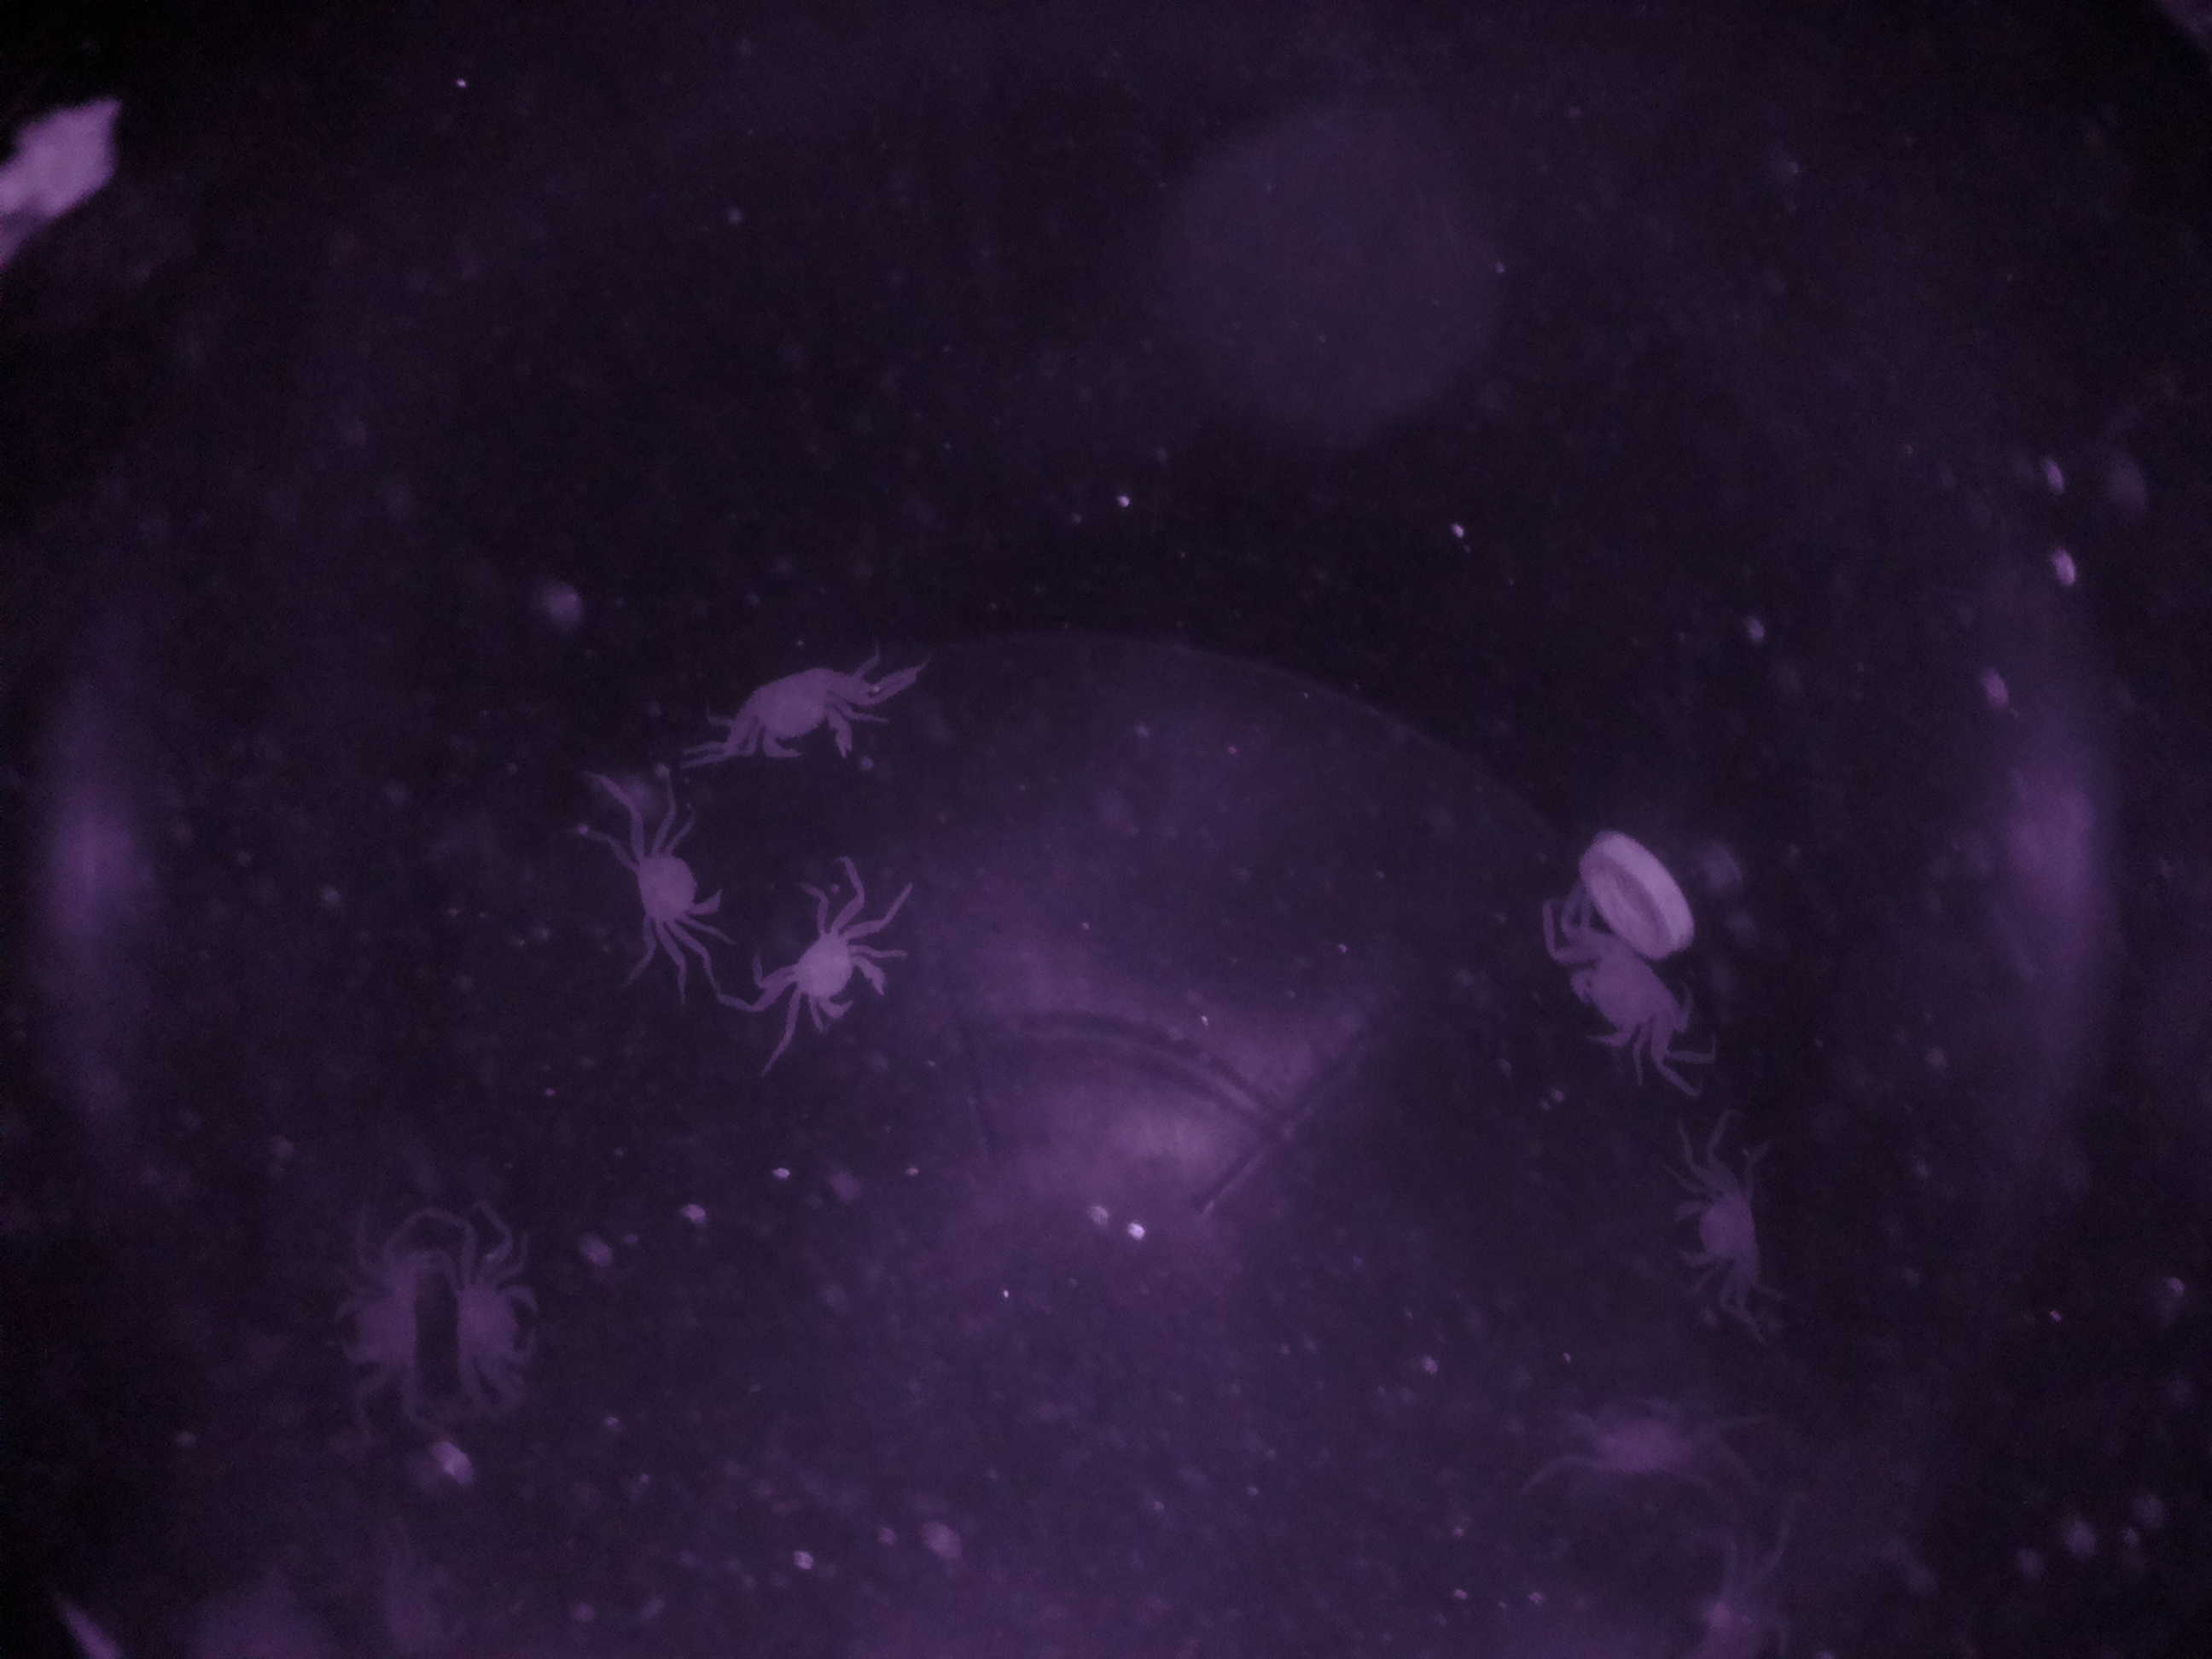Crab: (758, 873, 927, 1068), (303, 1208, 437, 1452), (1545, 894, 1714, 1075), (714, 631, 887, 800), (603, 782, 726, 978), (446, 1230, 554, 1429), (1656, 1152, 1787, 1305)
